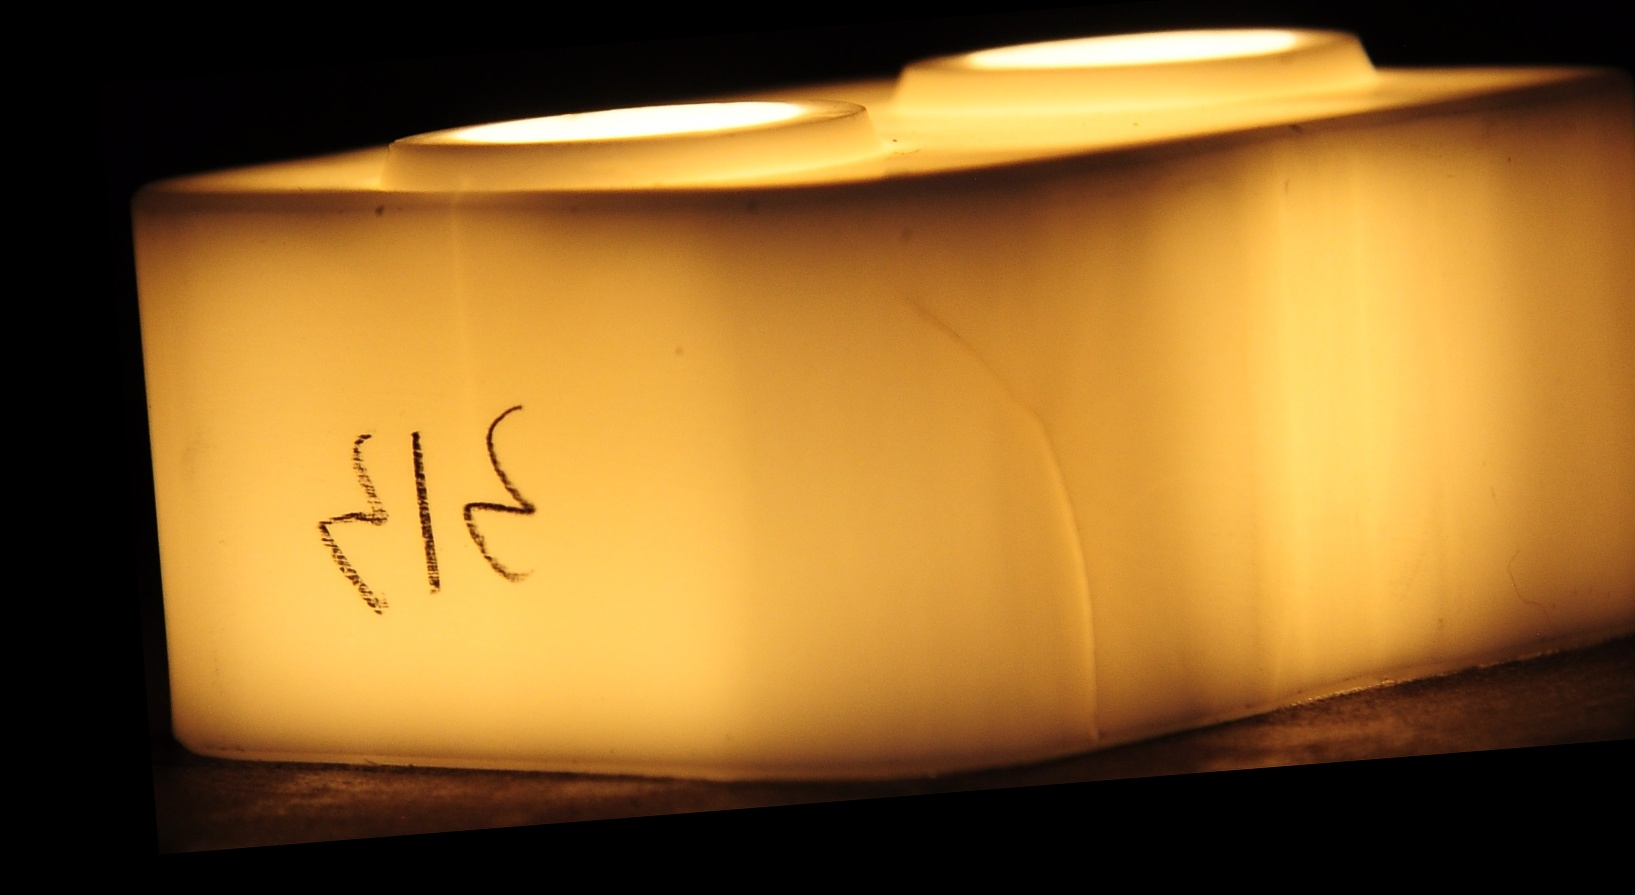flaw: (1060, 385, 1100, 757), (941, 301, 996, 412), (1006, 352, 1043, 450), (895, 294, 942, 345)
